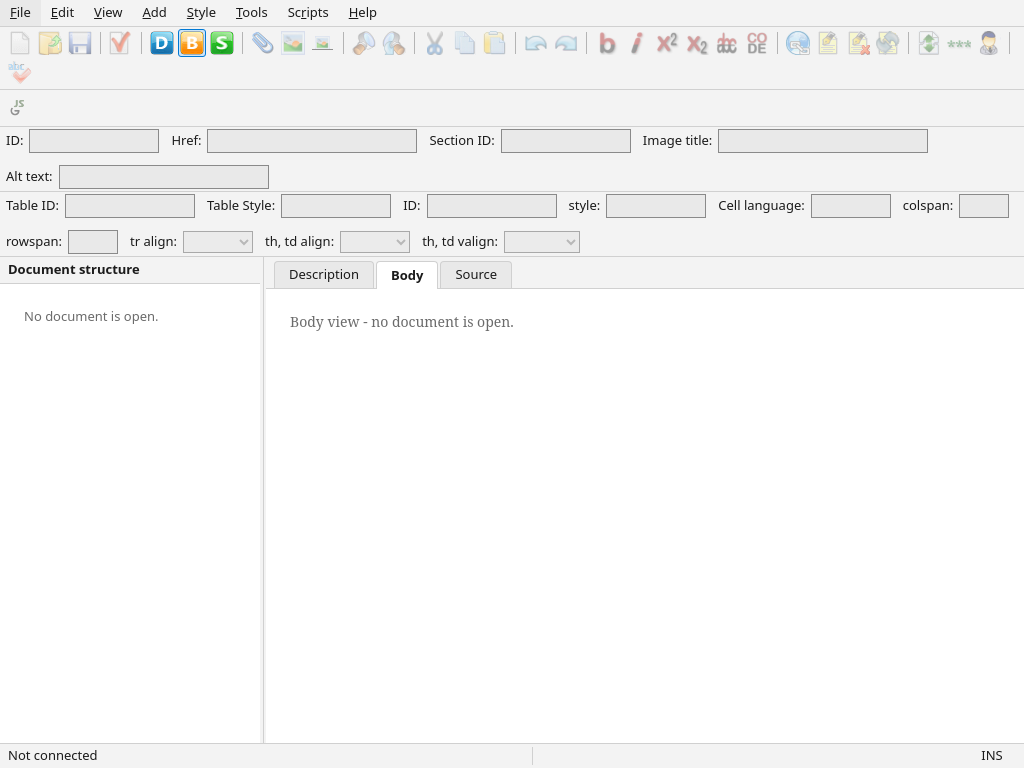
Test case: App shell › toggling the status bar through the View menu hides it
Click the menu item with test id "menu-view" at (108, 13), box 84,0 -> 133,26
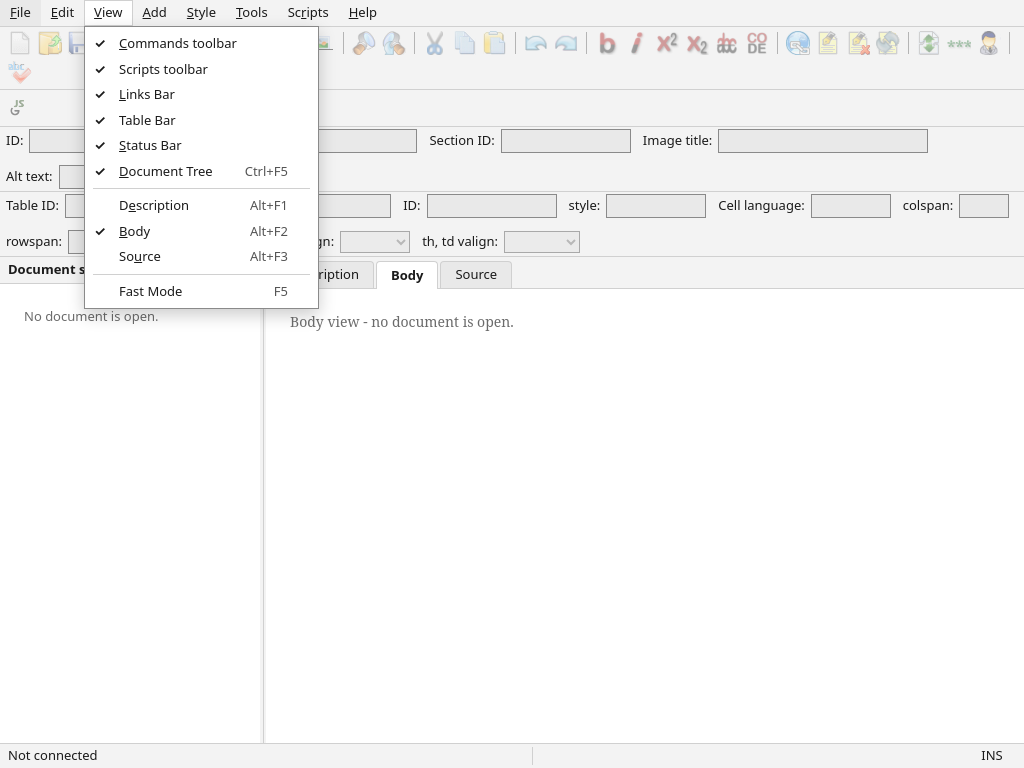
Click the menu item with test id "menu-view-statusBar" at (138, 145), box 94,136 -> 182,154
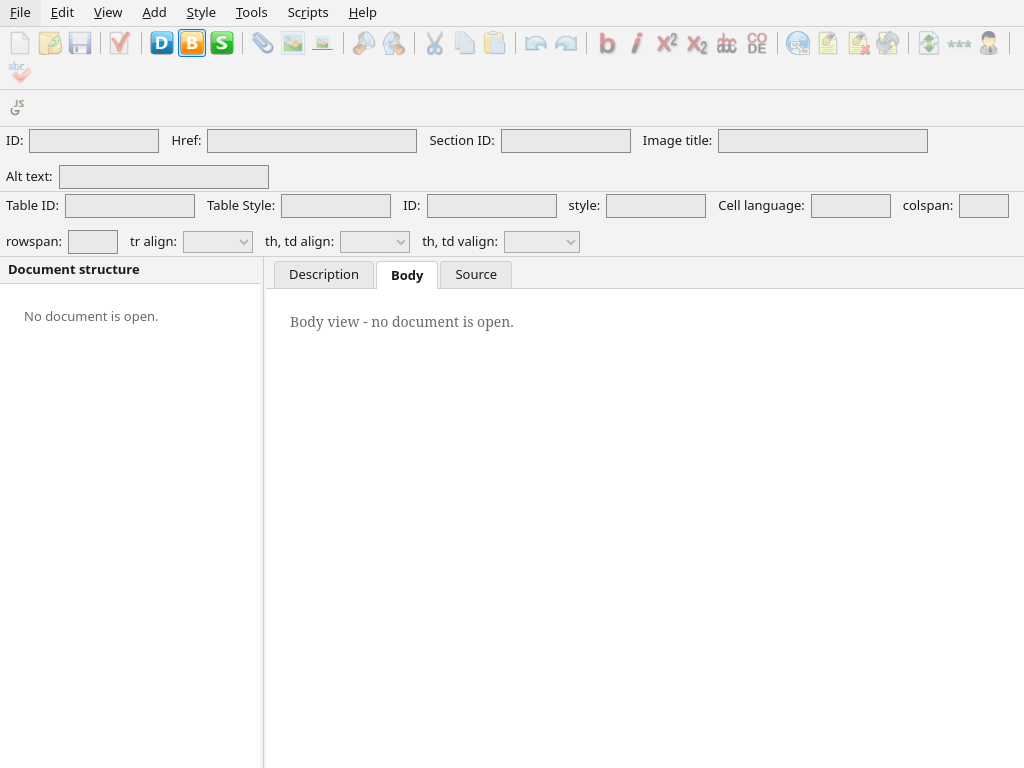
Check: the message with test id "statusbar" is gone
Click the menu item with test id "menu-view" at (108, 13), box 84,0 -> 133,26
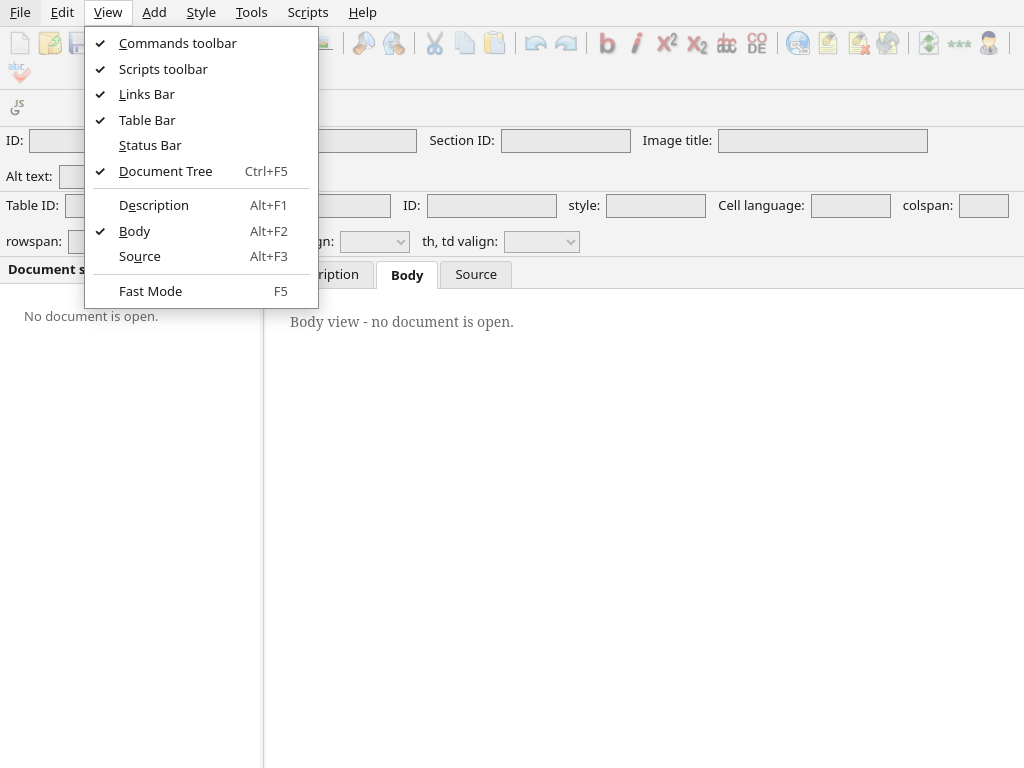
Check: the menu item with test id "menu-view-statusBar" does not have attribute data-checked, box 119,136 -> 182,154
Click the menu item with test id "menu-view-tree" at (191, 171), box 94,162 -> 288,180
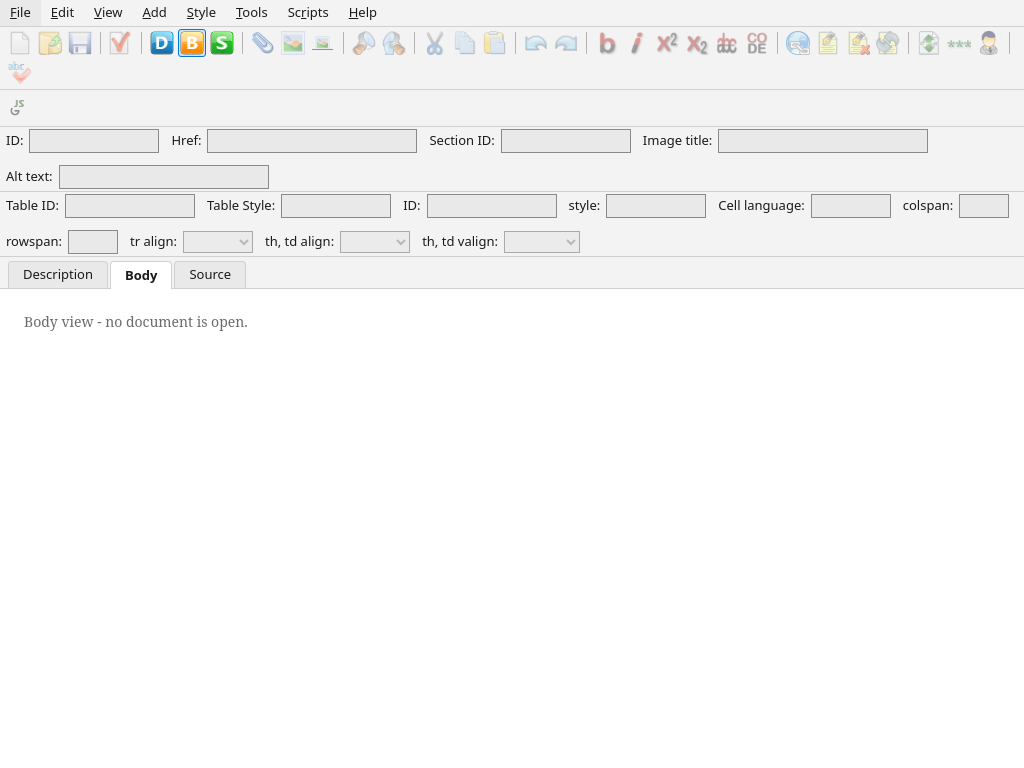
Check: the element with test id "tree-panel" is gone
